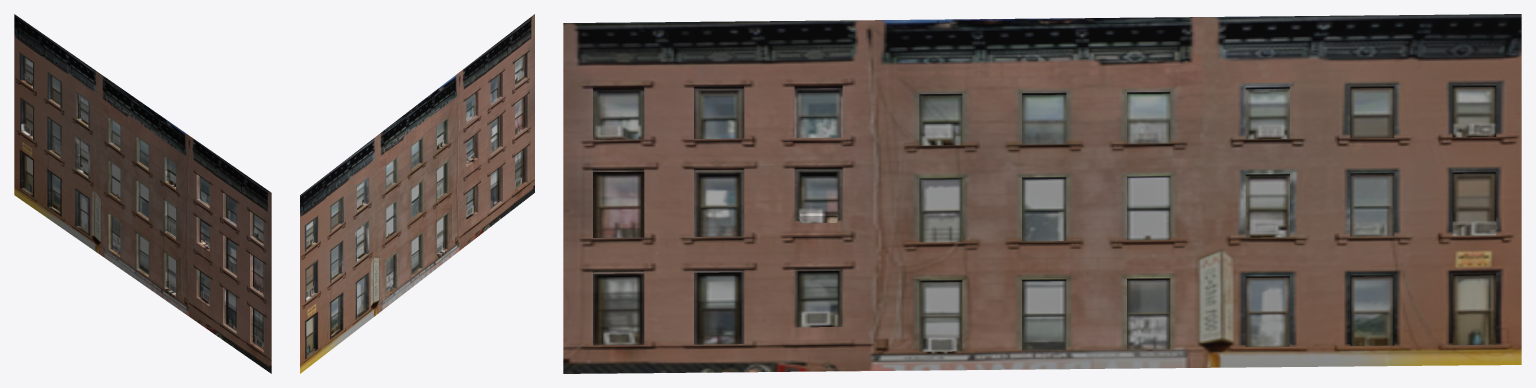
File: object_4.001_lev3.glb
3 renders of one model, left to right at view 1: azimuth 30°, elevation 25°; view 2: azimuth 150°, elevation 25°; view 3: azimuth 270°, elevation 25°, orthographic. The views are drawn at different scales.
Parts seen in each view (by area): view 1: object_4.001_lev3; view 2: object_4.001_lev3; view 3: object_4.001_lev3.
Part boxes in pixels (x1,y1,x2,y2): object_4.001_lev3: [14, 14, 271, 373]; object_4.001_lev3: [300, 14, 534, 373]; object_4.001_lev3: [563, 14, 1521, 373].
Size of the model in its own units: 0.596 by 7.91 by 19.57.
Materials: 1 (1 with a texture image).
